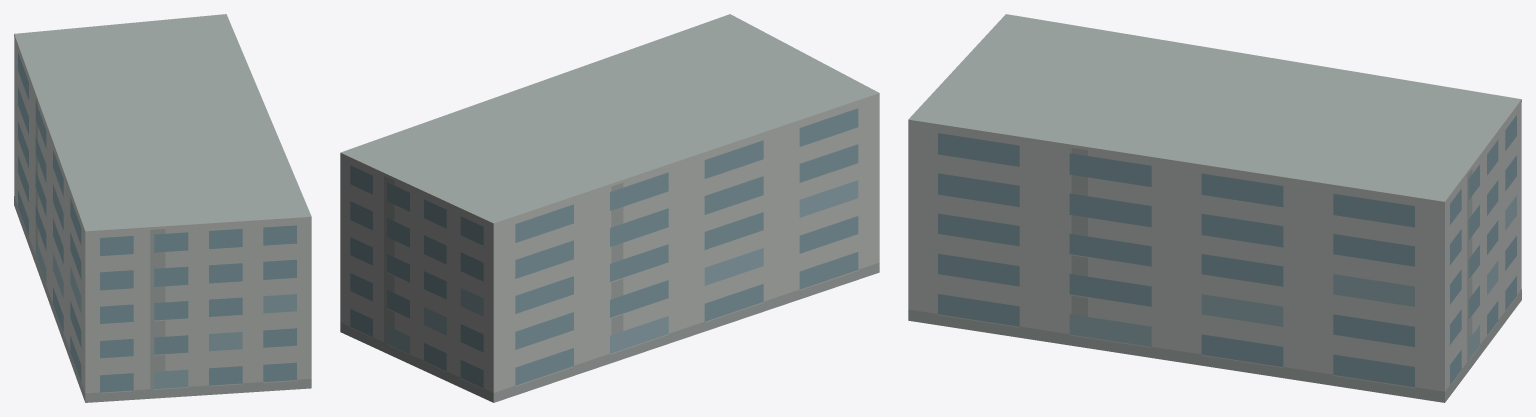
Rendered from survey-upis-32938982.glb.
The picture shows the model from 3 angles, left to right: view 1: azimuth 30°, elevation 25°; view 2: azimuth 150°, elevation 25°; view 3: azimuth 270°, elevation 25°; orthographic projection. The views are drawn at different scales.
Parts seen in each view (by area): view 1: survey-upis-32938982.tmp; view 2: survey-upis-32938982.tmp; view 3: survey-upis-32938982.tmp.
Part boxes in pixels (x1,y1,x2,y2): survey-upis-32938982.tmp: (14, 14, 311, 402); survey-upis-32938982.tmp: (340, 14, 879, 402); survey-upis-32938982.tmp: (908, 14, 1521, 402).
Bounding box in the file's own units: 30.57 × 15.25 × 42.19.
